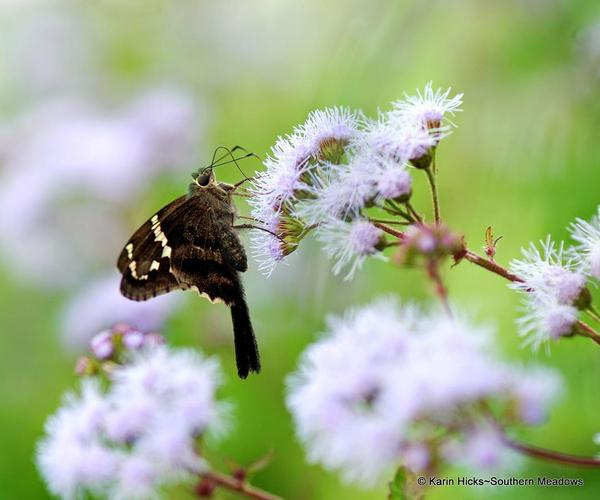Hesperiidae: (116, 128, 286, 331)
